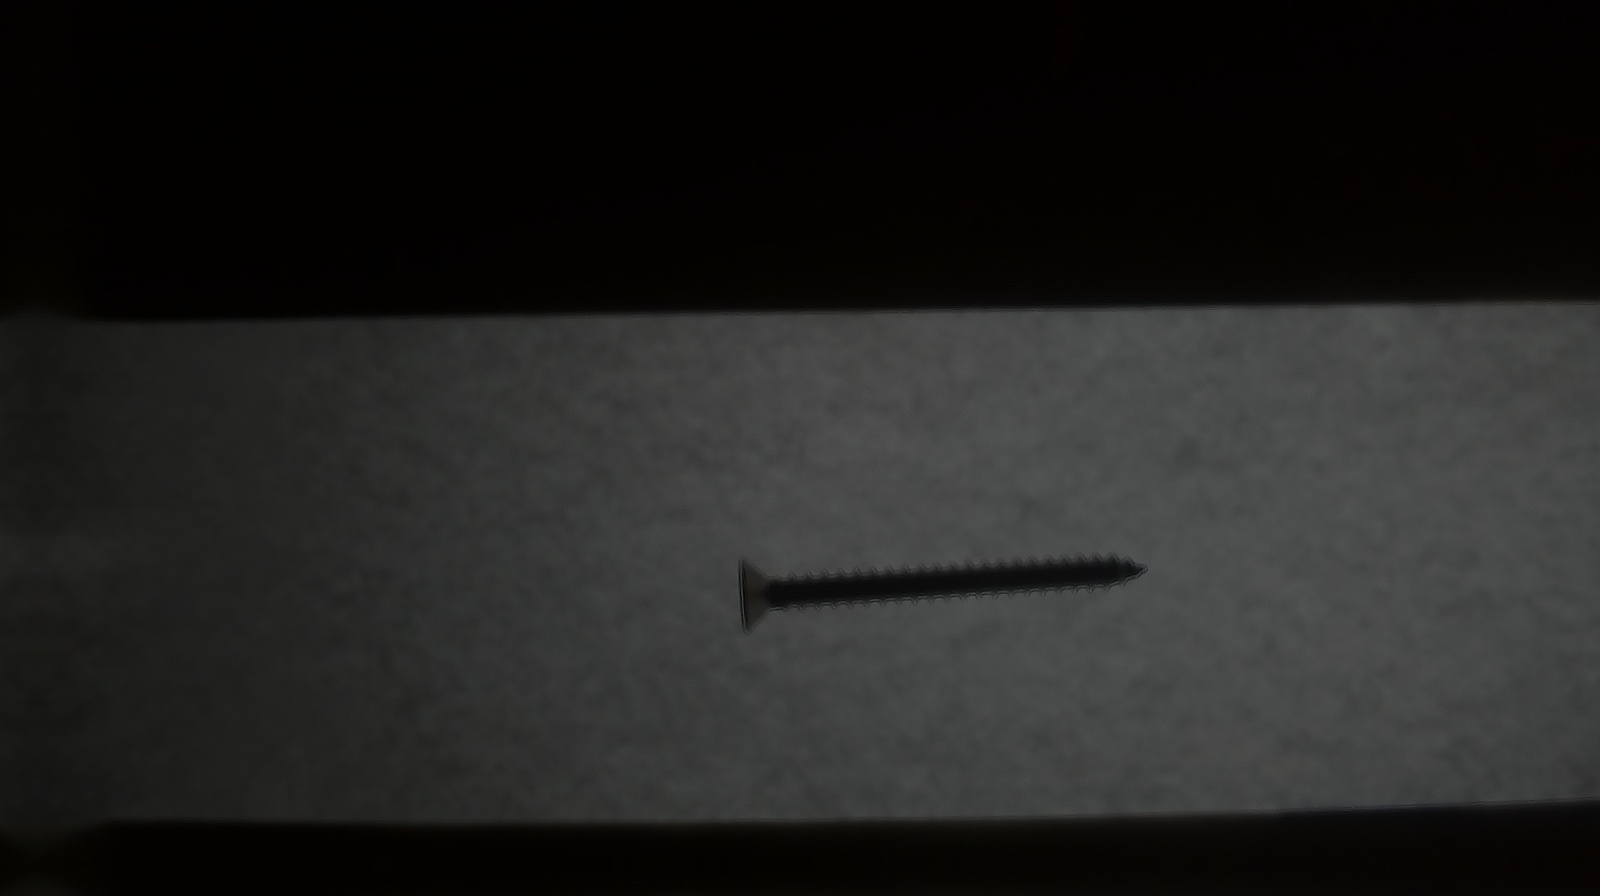S002: (707, 523, 1168, 644)
